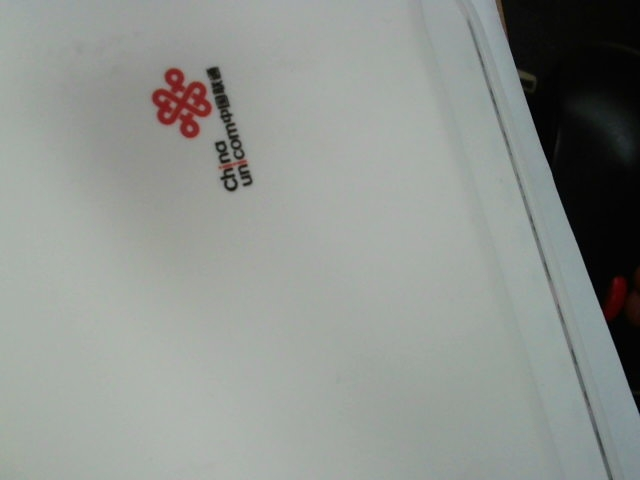AC_ChinaUnicom: (140, 54, 283, 200)
